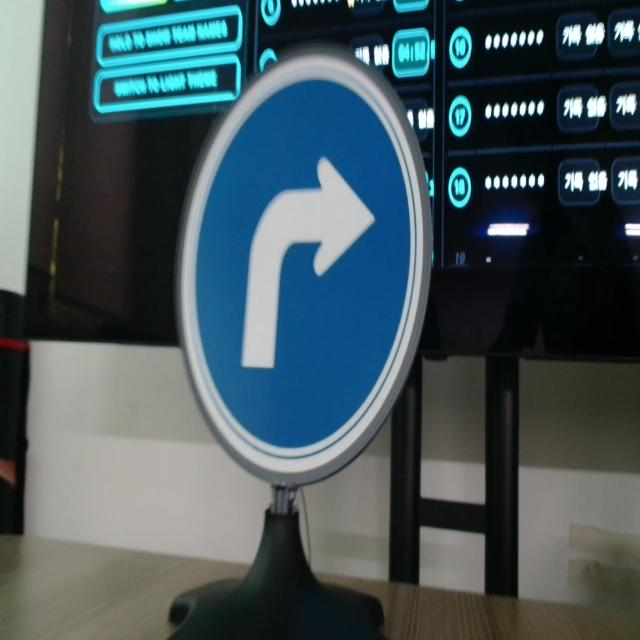right_dierection: (172, 44, 433, 490)
